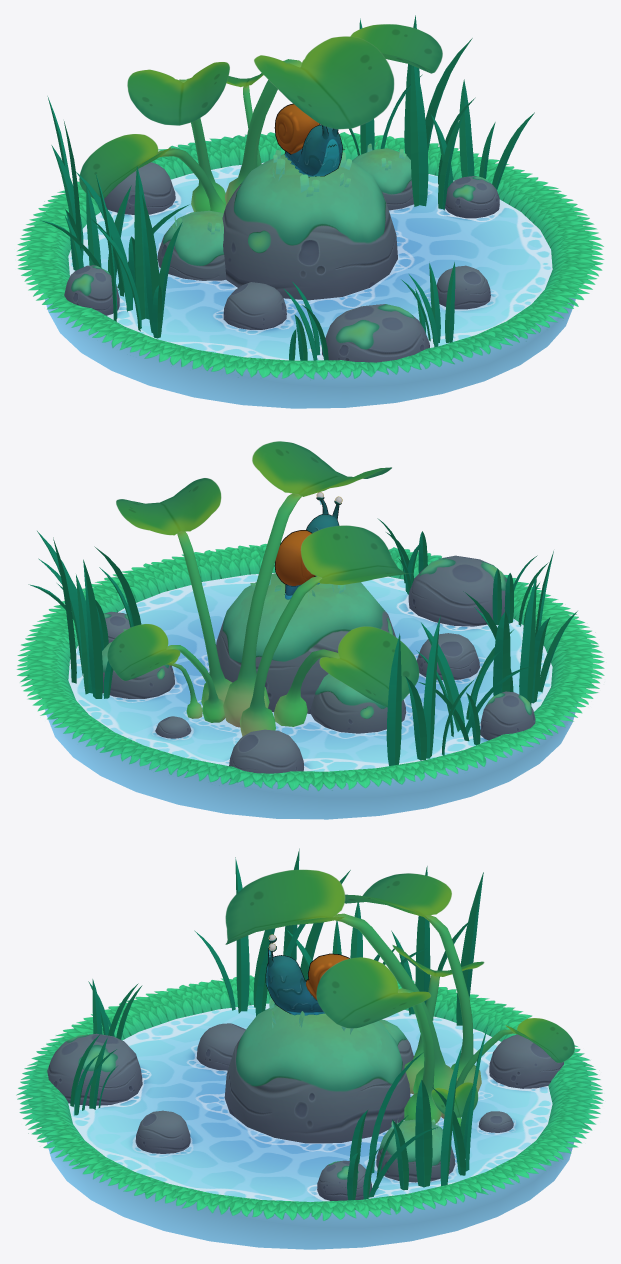
File: sad_snail.glb
3 renders of one model, top to bottom at view 1: azimuth 30°, elevation 25°; view 2: azimuth 150°, elevation 25°; view 3: azimuth 270°, elevation 25°, orthographic.
Parts seen in each view (by area): view 1: Base_water, Base_cesped, Plant_ext, Rock_1_low.001, Plant_1, Plant_1.003, Rock_2_low.002, Plant_2.001, Rock_1_low.003, Snail_sad, Plant_1.001, Rock_3_low.002 (+7 smaller); view 2: Base_water, Base_cesped, Plant_ext, Rock_1_low.001, Plant_1, Plant_1.003, Plant_2.001, Plant_1.001, Rock_2_low.002, Plant_1.002, Rock_1_low.003, Rock_3_low.003 (+7 smaller); view 3: Base_water, Base_cesped, Rock_1_low.001, Plant_ext, Plant_1, Plant_1.001, Plant_1.003, Rock_2_low.002, Snail_sad, Rock_3_low.003, Plant_1.002, Rock_3_low.001 (+7 smaller).
Boxes of the visible parts, x1=… form: Base_water: x1=43, y1=162, x2=576, y2=408; Base_cesped: x1=16, y1=132, x2=604, y2=379; Plant_ext: x1=40, y1=15, x2=534, y2=360; Rock_1_low.001: x1=222, y1=153, x2=397, y2=300; Plant_1: x1=225, y1=36, x2=394, y2=204; Plant_1.003: x1=127, y1=62, x2=229, y2=211; Rock_2_low.002: x1=322, y1=304, x2=429, y2=362; Plant_2.001: x1=79, y1=134, x2=226, y2=212; Rock_1_low.003: x1=157, y1=210, x2=225, y2=280; Snail_sad: x1=274, y1=103, x2=342, y2=177; Plant_1.001: x1=284, y1=24, x2=442, y2=153; Rock_3_low.002: x1=223, y1=282, x2=286, y2=329; Base_water: x1=45, y1=572, x2=577, y2=819; Base_cesped: x1=16, y1=544, x2=604, y2=791; Plant_ext: x1=28, y1=518, x2=577, y2=765; Rock_1_low.001: x1=216, y1=573, x2=395, y2=713; Plant_1: x1=223, y1=441, x2=391, y2=727; Plant_1.003: x1=239, y1=525, x2=411, y2=736; Plant_2.001: x1=274, y1=626, x2=419, y2=726; Plant_1.001: x1=116, y1=478, x2=232, y2=705; Rock_2_low.002: x1=408, y1=555, x2=506, y2=626; Plant_1.002: x1=107, y1=624, x2=225, y2=722; Rock_1_low.003: x1=310, y1=673, x2=406, y2=733; Rock_3_low.003: x1=229, y1=729, x2=303, y2=773; Base_water: x1=45, y1=1003, x2=575, y2=1249; Base_cesped: x1=16, y1=975, x2=603, y2=1220; Rock_1_low.001: x1=224, y1=1004, x2=410, y2=1143; Plant_ext: x1=70, y1=848, x2=487, y2=1200; Plant_1: x1=225, y1=869, x2=457, y2=1093; Plant_1.001: x1=316, y1=957, x2=441, y2=1123; Plant_1.003: x1=344, y1=873, x2=481, y2=1091; Rock_2_low.002: x1=47, y1=1033, x2=142, y2=1105; Snail_sad: x1=265, y1=934, x2=349, y2=1015; Rock_3_low.003: x1=489, y1=1034, x2=563, y2=1088; Plant_1.002: x1=441, y1=1018, x2=574, y2=1118; Rock_3_low.001: x1=135, y1=1110, x2=190, y2=1153.
Bounding box in the file's own units: 52.65 × 23.92 × 52.65.
5 materials, 5 textured.
